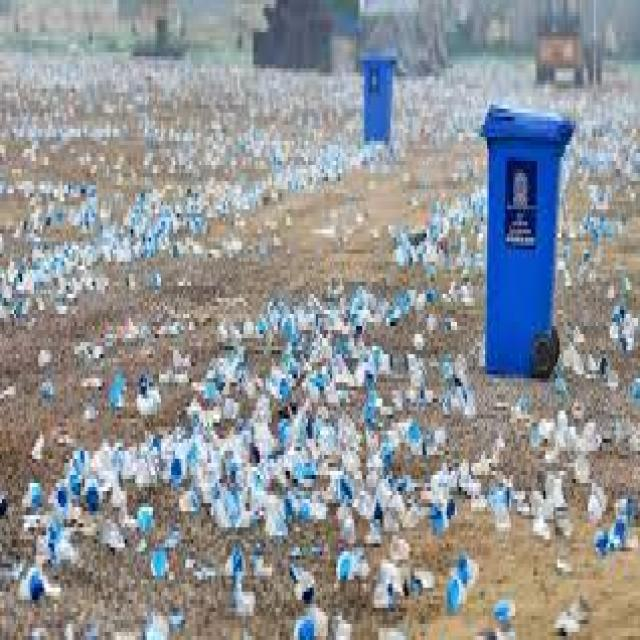heap: (194, 331, 468, 609)
